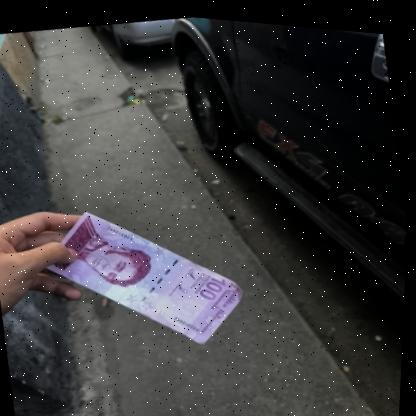vef_front: (34, 179, 259, 370)
